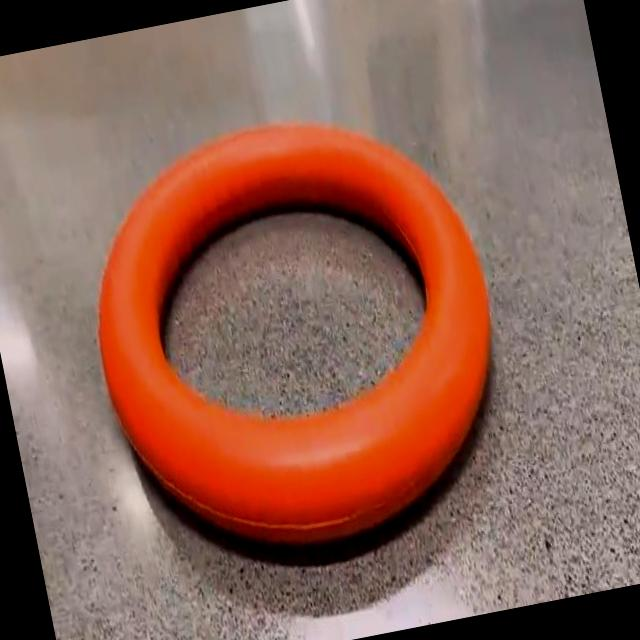note: (100, 124, 490, 544)
